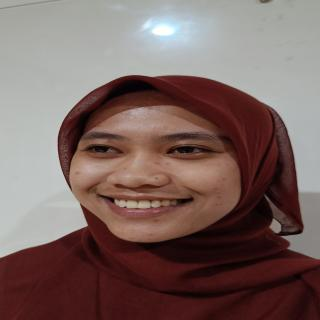Senang: (57, 83, 249, 254)
